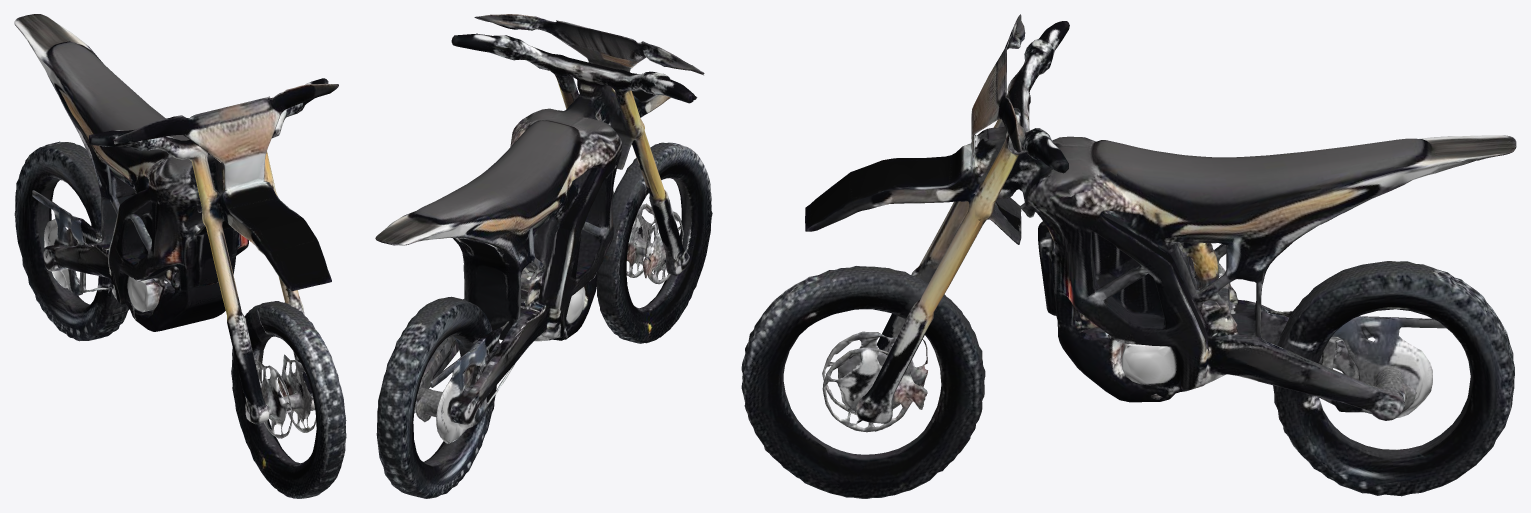
File: rob_ultrabee.glb
3 views of the same model, side by side, from view 1: azimuth 30°, elevation 25°; view 2: azimuth 150°, elevation 25°; view 3: azimuth 270°, elevation 25° (orthographic). The views are drawn at different scales.
Parts seen in each view (by area): view 1: body, fork_bars, wheel_F, wheel_R; view 2: body, wheel_R, fork_bars, wheel_F; view 3: body, wheel_R, wheel_F, fork_bars.
Boxes of the visible parts, x1,y1,x2,y2 form: body: (14, 14, 331, 331); fork_bars: (89, 78, 338, 438); wheel_F: (231, 301, 346, 498); wheel_R: (14, 142, 129, 341); body: (375, 37, 697, 434); wheel_R: (376, 296, 496, 498); fork_bars: (452, 14, 704, 284); wheel_F: (596, 142, 712, 343); body: (805, 22, 1516, 420); wheel_R: (1273, 261, 1514, 496); wheel_F: (741, 266, 985, 498); fork_bars: (822, 14, 1069, 423).
Bounding box in the file's own units: 1.03 × 1.42 × 2.33.
Materials: 1 (1 with a texture image).
